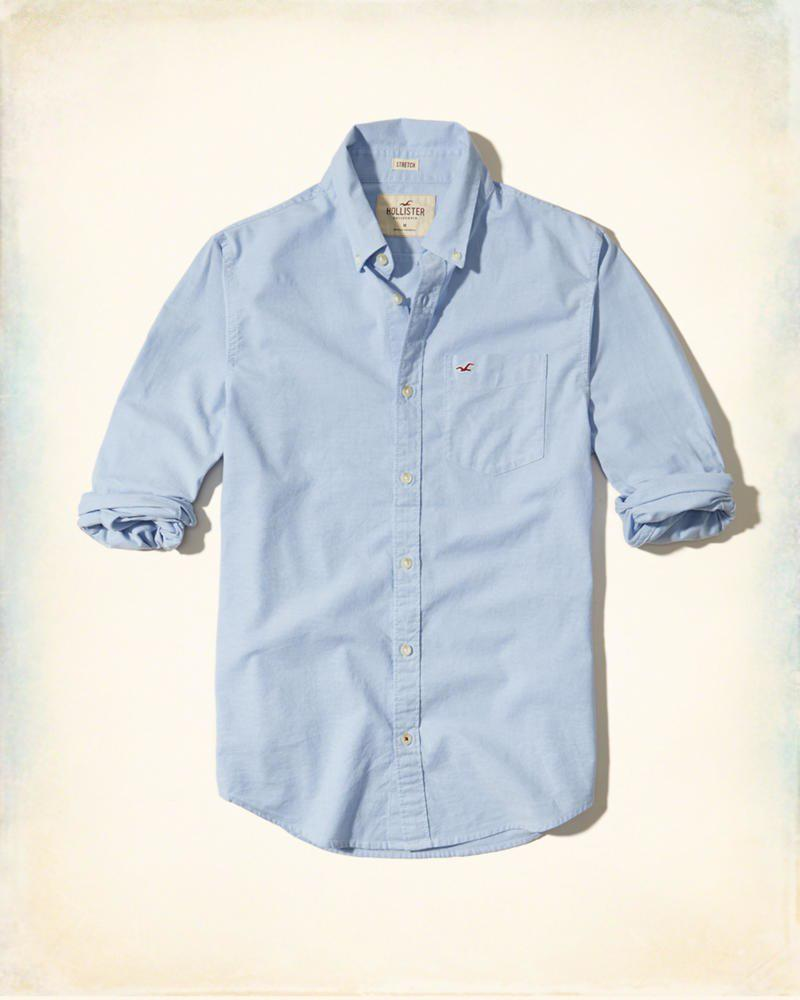teeshirt: (76, 118, 736, 857)
